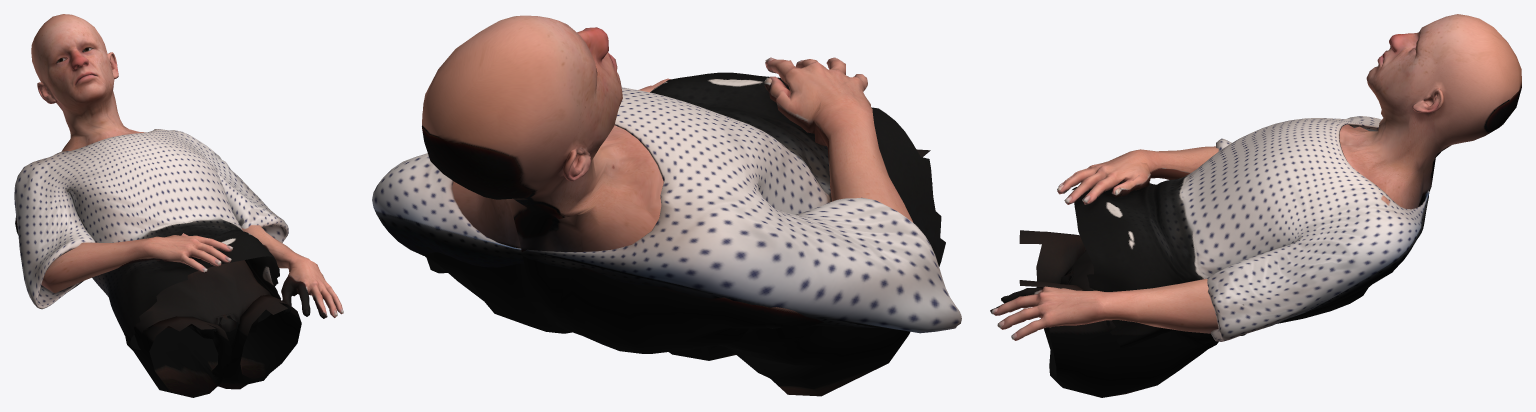
Rendered from patient.fbx.
3 renders of one model, left to right at view 1: azimuth 30°, elevation 25°; view 2: azimuth 150°, elevation 25°; view 3: azimuth 270°, elevation 25°, orthographic. The views are drawn at different scales.
Visible parts, largest first — view 1: et_male_skin, gown001; view 2: et_male_skin, gown001; view 3: gown001, et_male_skin.
Boxes of the visible parts, x1,y1,x2,y2 form: et_male_skin: (15,14,343,397); gown001: (14,129,288,351); et_male_skin: (422,15,932,396); gown001: (372,72,961,333); gown001: (1072,116,1429,349); et_male_skin: (990,14,1521,397).
Bounding box in the file's own units: 22.12 × 22.41 × 30.3.
4 materials, 4 textured.
